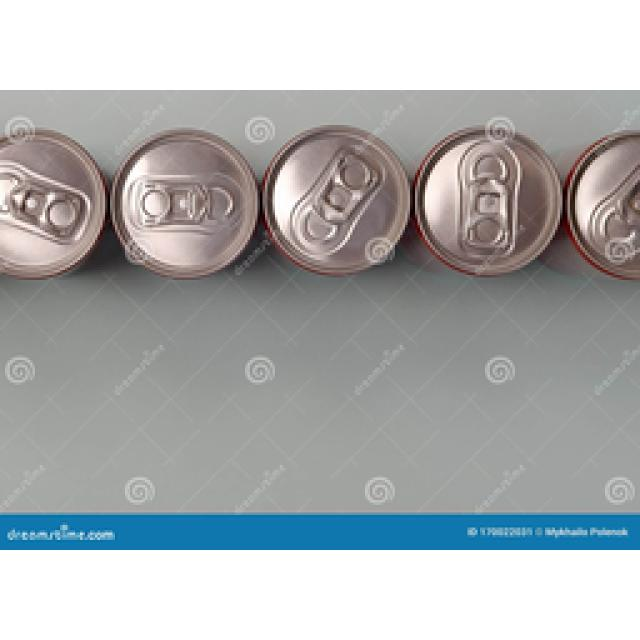aluminum_soda_cans: (417, 118, 563, 277), (105, 128, 260, 275), (274, 122, 408, 273), (0, 125, 100, 275), (570, 113, 633, 277)
